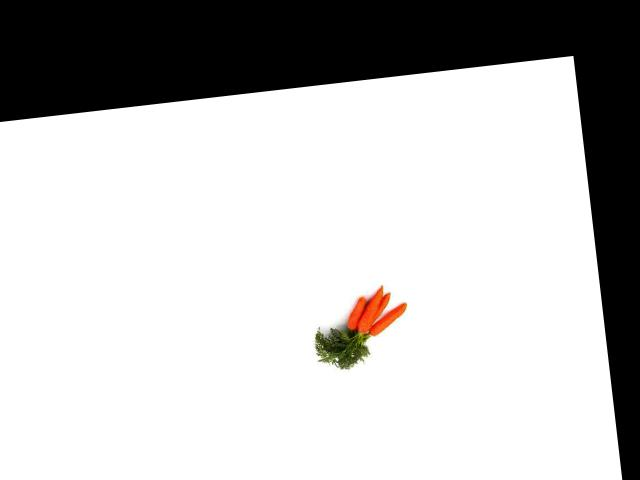carrot: (343, 296, 365, 331)
